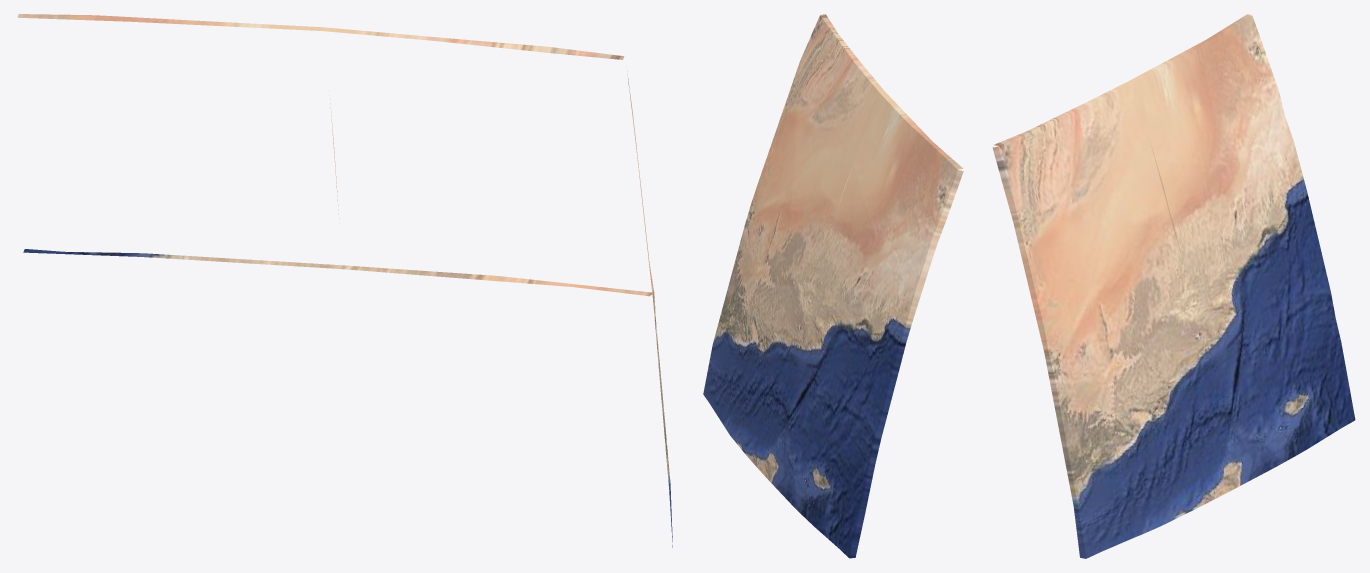
The picture shows the model from 3 angles, left to right: view 1: azimuth 30°, elevation 25°; view 2: azimuth 150°, elevation 25°; view 3: azimuth 270°, elevation 25°; orthographic projection. The views are drawn at different scales.
Size of the model in its own units: 1163192 by 1208052 by 1048774.
1 material, 1 textured.
